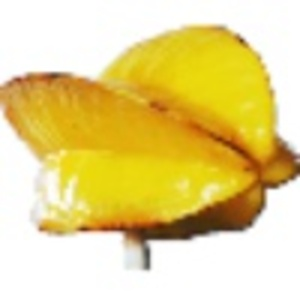carambola: (1, 23, 300, 269)
